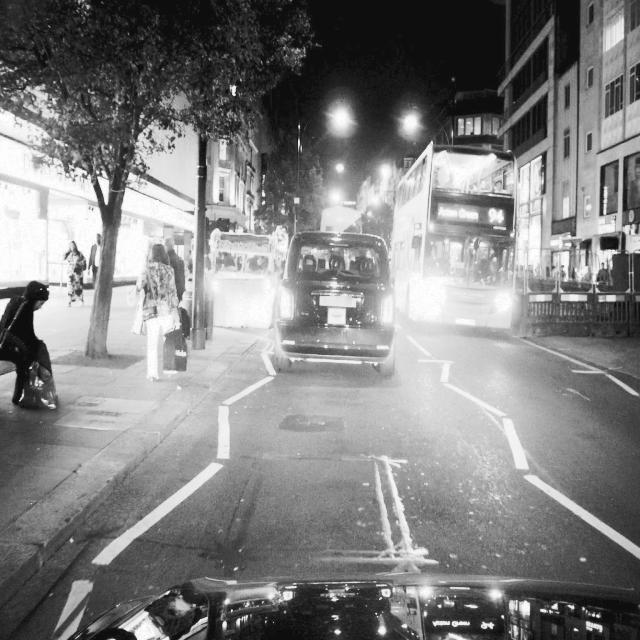Tree: (72, 0, 172, 368)
